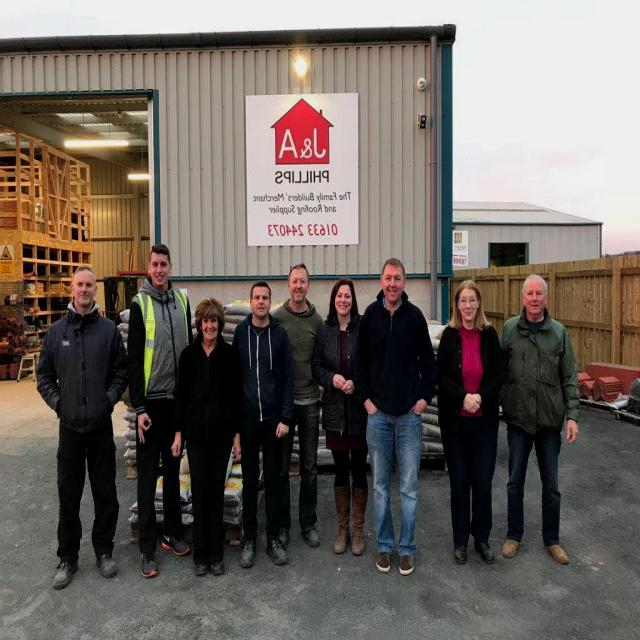boots: (350, 484, 368, 557), (334, 485, 351, 560)
face_nomask: (147, 253, 174, 289), (70, 274, 96, 308), (380, 268, 404, 302), (522, 288, 548, 319), (199, 309, 219, 348), (331, 288, 357, 317), (288, 271, 310, 303), (252, 284, 272, 318), (459, 295, 480, 322)
hand_noglove: (332, 368, 357, 400), (226, 428, 246, 467), (458, 392, 484, 420), (167, 424, 184, 464), (362, 394, 383, 424), (134, 414, 150, 450), (412, 387, 428, 422), (562, 415, 580, 445), (271, 415, 289, 442)
head_nohelmet: (193, 294, 223, 318), (454, 275, 482, 300), (74, 256, 96, 282), (150, 230, 168, 261), (382, 249, 404, 271), (247, 277, 272, 293), (335, 272, 351, 295), (522, 272, 544, 286), (290, 259, 307, 276)
person: (36, 267, 128, 594), (362, 254, 437, 576), (503, 270, 578, 556), (126, 243, 188, 579), (437, 281, 502, 567), (178, 302, 238, 581), (229, 280, 287, 568), (323, 277, 363, 556), (282, 263, 322, 540)
shoes: (51, 556, 78, 595), (370, 540, 396, 580), (237, 534, 262, 574), (95, 546, 121, 582), (136, 542, 159, 582), (267, 528, 290, 567), (160, 522, 186, 556), (449, 532, 472, 566), (543, 536, 569, 566), (300, 520, 324, 552), (397, 545, 421, 577), (471, 537, 497, 565), (502, 532, 522, 560)
